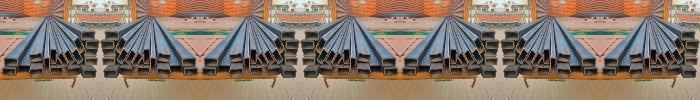pipe: (315, 38, 326, 53), (317, 49, 328, 64), (274, 38, 285, 53), (474, 38, 485, 53), (115, 38, 126, 53), (515, 38, 526, 53), (74, 38, 85, 53), (674, 38, 685, 53), (272, 49, 283, 64), (472, 49, 483, 64), (117, 49, 128, 64), (517, 49, 528, 64), (72, 49, 83, 64), (672, 49, 683, 64), (332, 53, 343, 67), (257, 53, 268, 67), (457, 53, 468, 67), (132, 53, 143, 67), (532, 53, 543, 67), (57, 53, 68, 67), (657, 53, 668, 67), (326, 50, 336, 64), (264, 50, 274, 64), (464, 50, 474, 64), (126, 50, 136, 64), (526, 50, 536, 64), (64, 50, 74, 64), (664, 50, 674, 64), (304, 31, 318, 38), (282, 31, 296, 38), (482, 31, 496, 38), (504, 31, 518, 38), (82, 31, 96, 38), (301, 40, 313, 48), (287, 40, 299, 48), (487, 40, 499, 48), (101, 40, 113, 48), (501, 40, 513, 48), (87, 40, 99, 48), (687, 40, 699, 48), (104, 31, 117, 38), (683, 31, 696, 38), (432, 68, 443, 76), (157, 68, 168, 76), (32, 68, 43, 76), (358, 53, 370, 60), (350, 58, 356, 72), (370, 66, 382, 73), (430, 53, 442, 60), (158, 53, 170, 60), (558, 53, 570, 60), (30, 53, 42, 60), (630, 53, 642, 60), (244, 58, 250, 72), (444, 58, 450, 72), (150, 58, 156, 72), (550, 58, 556, 72), (44, 58, 50, 72), (644, 58, 650, 72), (218, 66, 230, 73), (418, 66, 430, 73), (170, 66, 182, 73), (570, 66, 582, 73), (18, 66, 30, 73), (618, 66, 630, 73), (358, 68, 368, 76), (232, 68, 242, 76), (558, 68, 568, 76), (632, 68, 642, 76), (343, 50, 349, 63), (483, 70, 496, 76), (83, 70, 96, 76), (684, 70, 697, 76), (251, 50, 257, 63), (451, 50, 457, 63), (143, 50, 149, 63), (543, 50, 549, 63), (51, 50, 57, 63), (651, 50, 657, 63), (230, 53, 241, 60), (302, 49, 314, 55), (302, 58, 314, 64), (304, 70, 316, 76), (320, 68, 332, 74), (385, 68, 397, 74), (286, 49, 298, 55), (486, 49, 498, 55), (102, 49, 114, 55), (502, 49, 514, 55), (86, 49, 98, 55), (686, 49, 698, 55), (286, 58, 298, 64), (486, 58, 498, 64), (102, 58, 114, 64), (502, 58, 514, 64), (86, 58, 98, 64), (686, 58, 698, 64), (284, 70, 296, 76), (104, 70, 116, 76), (504, 70, 516, 76), (268, 68, 280, 74), (468, 68, 480, 74), (120, 68, 132, 74), (520, 68, 532, 74), (68, 68, 80, 74), (668, 68, 680, 74), (203, 68, 215, 74), (403, 68, 415, 74), (185, 68, 197, 74), (585, 68, 597, 74), (3, 68, 15, 74), (603, 68, 615, 74), (406, 59, 417, 65), (338, 68, 348, 74), (384, 59, 394, 65), (252, 68, 262, 74), (452, 68, 462, 74), (138, 68, 148, 74), (538, 68, 548, 74), (52, 68, 62, 74), (652, 68, 662, 74), (206, 59, 216, 65), (184, 59, 194, 65), (584, 59, 594, 65), (6, 59, 16, 65), (606, 59, 616, 65)
